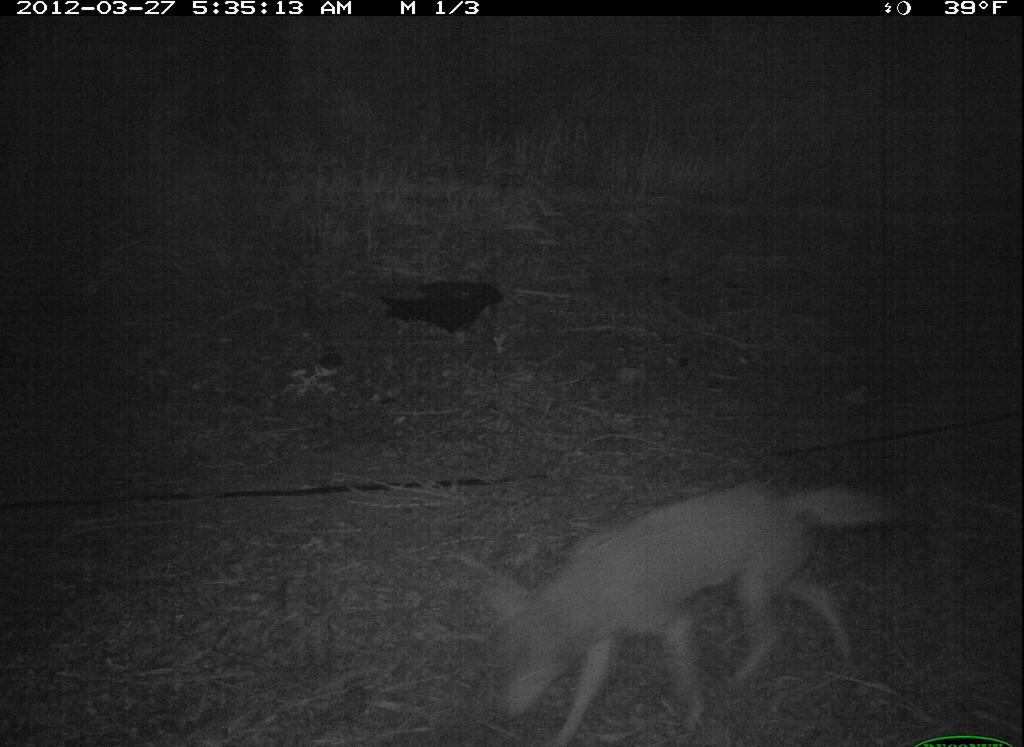coyote: (431, 466, 912, 747)
